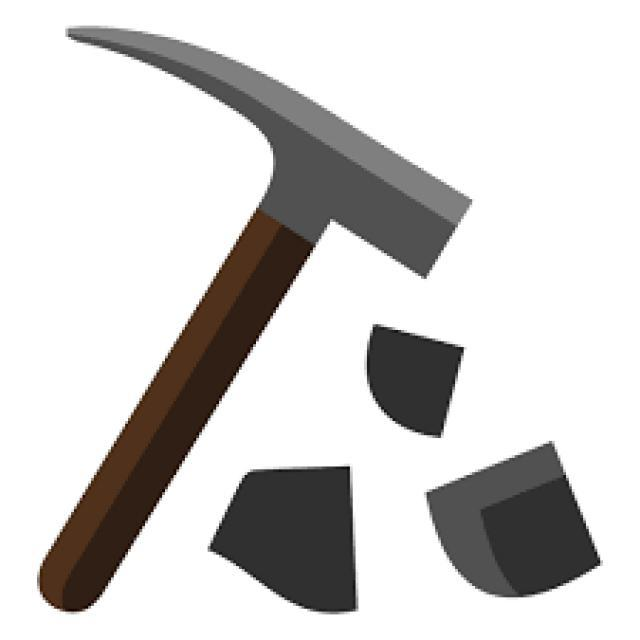hammer: (0, 20, 478, 583)
